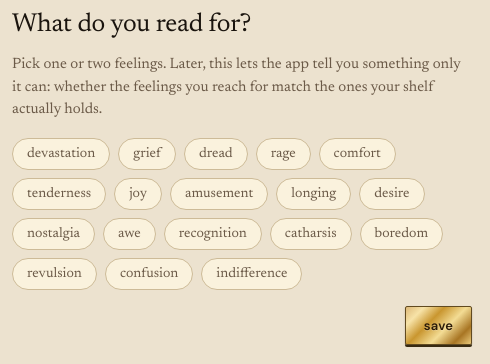
Scenario: ReadForQuestion [F7.7] › caps the selection at two feelings
Click the button "comfort" at [357, 154], box top-left (319, 138), bottom-right (396, 170)
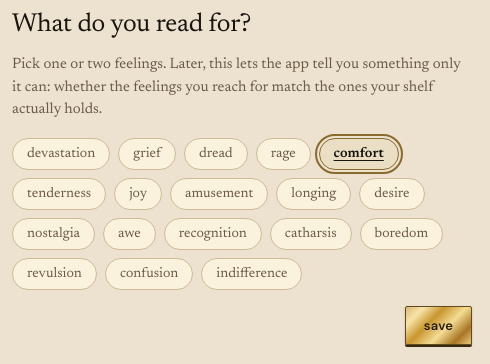
Click the button "grief" at [147, 154], box top-left (118, 138), bottom-right (176, 170)
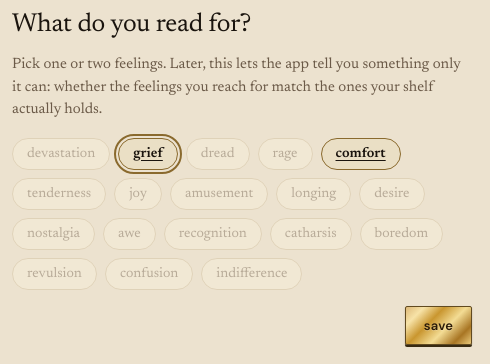
Now the button "awe" is disabled, box top-left (103, 218), bottom-right (156, 250)
